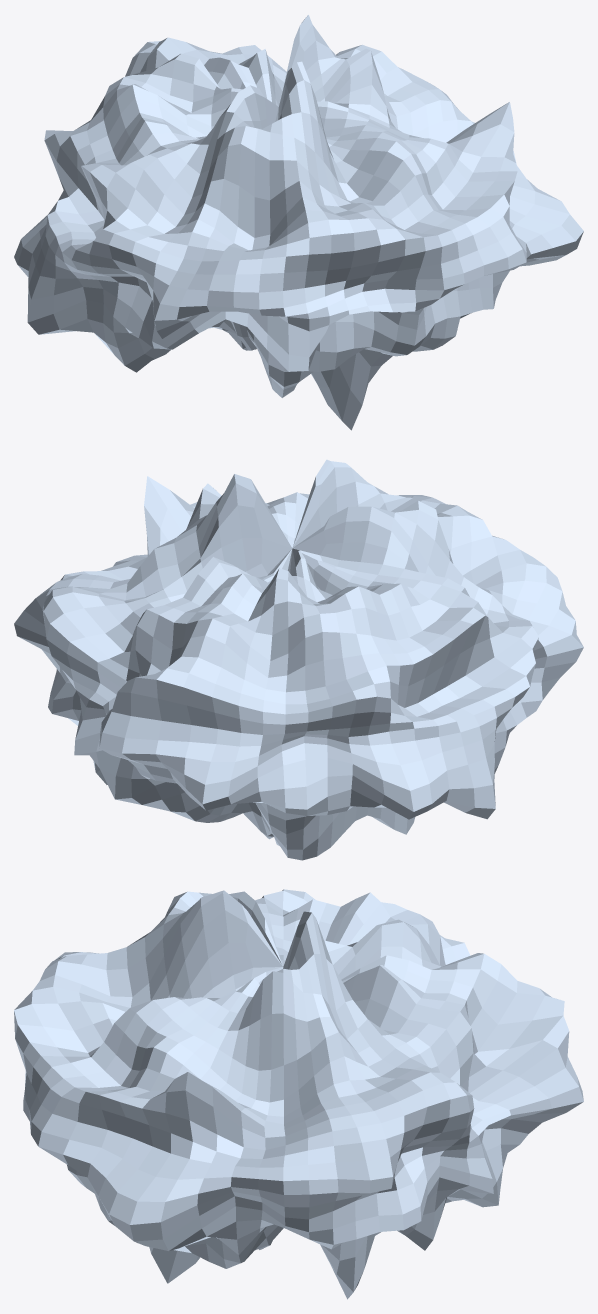
Rendered from Wind2.glb.
The picture shows the model from 3 angles, top to bottom: view 1: azimuth 30°, elevation 25°; view 2: azimuth 150°, elevation 25°; view 3: azimuth 270°, elevation 25°; orthographic projection. The views are drawn at different scales.
Parts seen in each view (by area): view 1: Wind2; view 2: Wind2; view 3: Wind2.
Part boxes in pixels (x1,y1,x2,y2): Wind2: (14, 15, 583, 430); Wind2: (14, 459, 583, 860); Wind2: (14, 889, 583, 1299).
Bounding box in the file's own units: 4.59 × 3.45 × 4.63.
